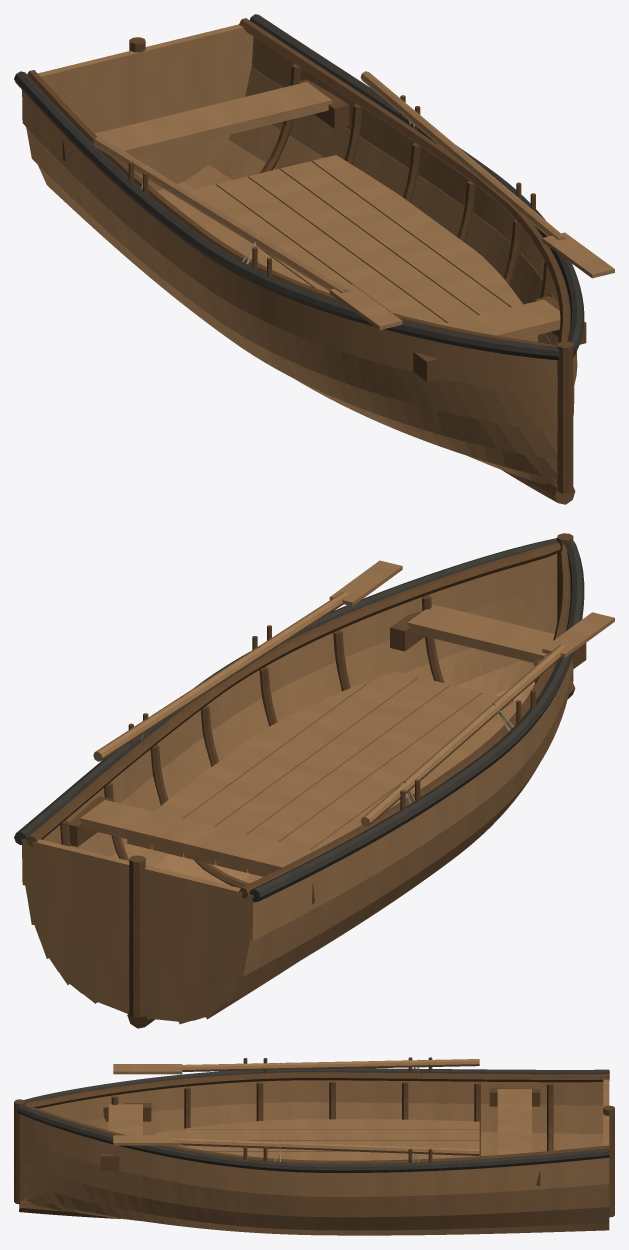
File: ship.glb
3 views of the same model, one above another, from view 1: azimuth 30°, elevation 25°; view 2: azimuth 150°, elevation 25°; view 3: azimuth 270°, elevation 25° (orthographic). The views are drawn at different scales.
Parts seen in each view (by area): view 1: strake_starboard_06, transom, strake_starboard_05, strake_starboard_04, strake_port_05, gunwale_1_001, end_thwart_00, strake_port_06, sole_board_05, sole_board_04, sole_board_03, sole_board_06 (+17 smaller); view 2: transom, strake_port_06, strake_port_05, strake_starboard_06, strake_starboard_05, inwale_1, end_thwart_00, gunwale_1_001, sole_board_04, sole_board_03, sole_board_05, sole_board_02 (+17 smaller); view 3: strake_port_06, strake_port_05, strake_starboard_06, strake_port_04, strake_starboard_05, gunwale_1, inwale_1_001, strake_port_03, sole_board_01, gunwale_1_001, sole_board_00, stowed_oar_shaft_1_001 (+23 smaller).
Part boxes in pixels (bbox=[...]): strake_starboard_06: bbox=[22, 90, 557, 396]; transom: bbox=[26, 24, 253, 190]; strake_starboard_05: bbox=[26, 128, 557, 431]; strake_starboard_04: bbox=[39, 166, 557, 459]; strake_port_05: bbox=[245, 67, 574, 415]; gunwale_1_001: bbox=[14, 71, 559, 360]; end_thwart_00: bbox=[95, 82, 331, 157]; strake_port_06: bbox=[251, 37, 577, 386]; sole_board_05: bbox=[280, 161, 537, 342]; sole_board_04: bbox=[248, 169, 478, 322]; sole_board_03: bbox=[216, 176, 446, 324]; sole_board_06: bbox=[312, 155, 522, 307]; transom: bbox=[21, 839, 253, 1021]; strake_port_06: bbox=[22, 553, 557, 885]; strake_port_05: bbox=[25, 586, 557, 924]; strake_starboard_06: bbox=[246, 658, 572, 940]; strake_starboard_05: bbox=[238, 670, 572, 976]; inwale_1: bbox=[26, 543, 560, 846]; end_thwart_00: bbox=[80, 800, 313, 873]; gunwale_1_001: bbox=[249, 541, 584, 902]; sole_board_04: bbox=[184, 677, 450, 864]; sole_board_03: bbox=[216, 685, 481, 872]; sole_board_05: bbox=[152, 671, 418, 857]; sole_board_02: bbox=[248, 692, 513, 876]; strake_port_06: bbox=[21, 1115, 609, 1196]; strake_port_05: bbox=[21, 1140, 609, 1217]; strake_starboard_06: bbox=[38, 1080, 603, 1121]; strake_port_04: bbox=[22, 1164, 609, 1230]; strake_starboard_05: bbox=[79, 1102, 603, 1135]; gunwale_1: bbox=[16, 1105, 609, 1172]; inwale_1_001: bbox=[25, 1072, 609, 1108]; strake_port_03: bbox=[23, 1183, 609, 1235]; sole_board_01: bbox=[155, 1130, 479, 1140]; gunwale_1_001: bbox=[24, 1068, 609, 1102]; sole_board_00: bbox=[181, 1119, 479, 1129]; stowed_oar_shaft_1_001: bbox=[173, 1059, 479, 1071].
Bounding box in the file's own units: 1.3 × 0.7512 × 3.31.
Materials: 4 (4 with a texture image).
